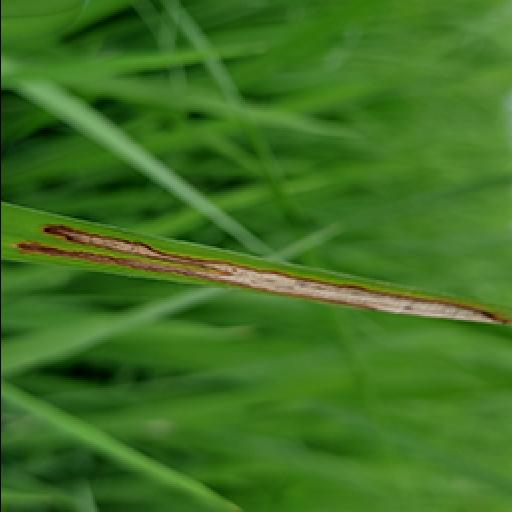Leaf Blast Disease: (10, 218, 508, 332)
